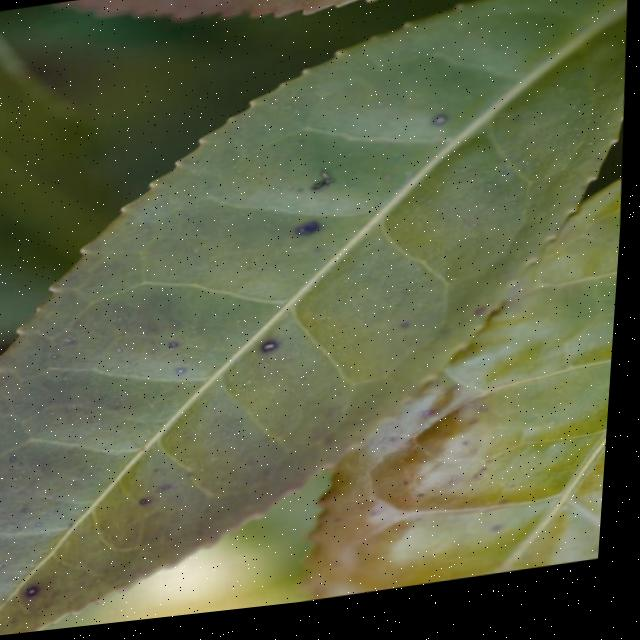Tea red scab: (130, 462, 221, 522), (288, 205, 341, 264), (157, 337, 205, 384), (257, 334, 298, 369), (424, 115, 464, 143), (469, 475, 497, 496), (26, 583, 55, 603), (486, 535, 520, 552), (508, 492, 531, 506)
